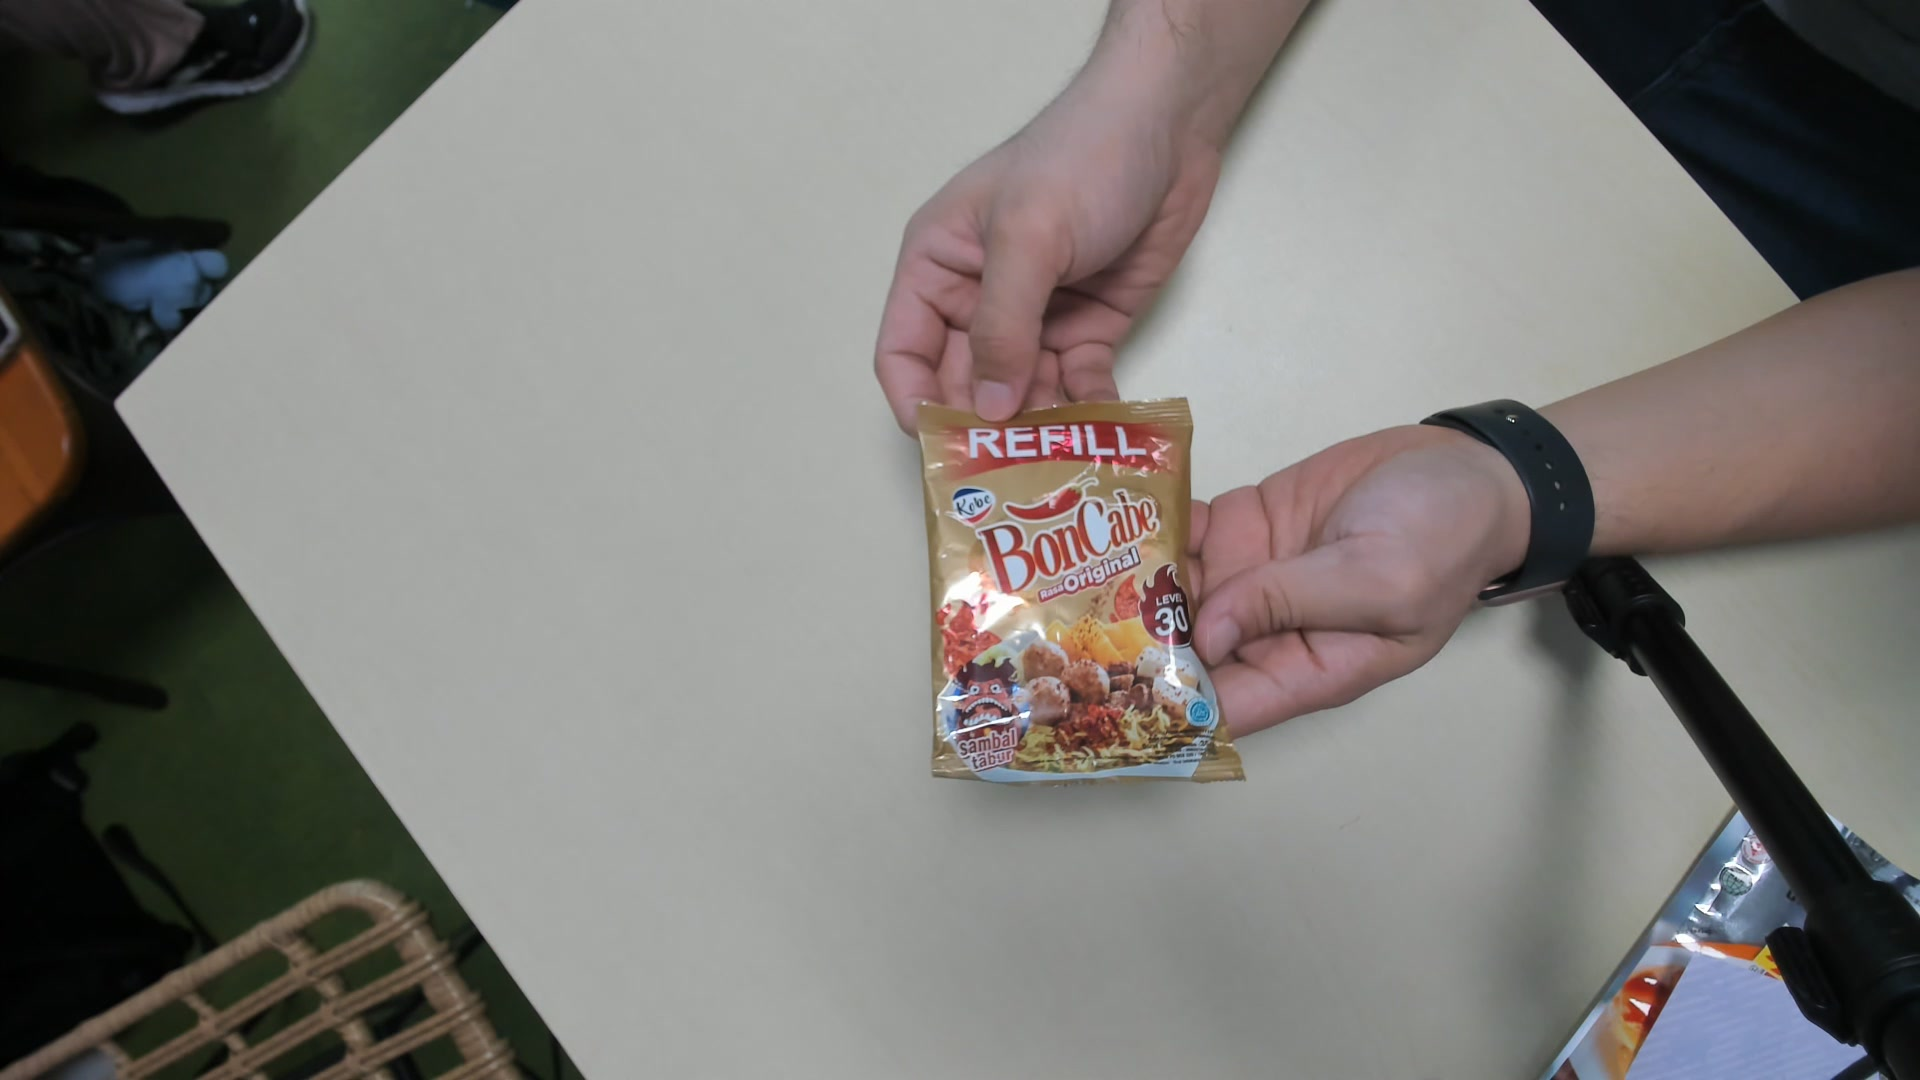CurryPastePowderSauce_0-99g_Halal_NonHealthy: (910, 396, 1234, 790)
